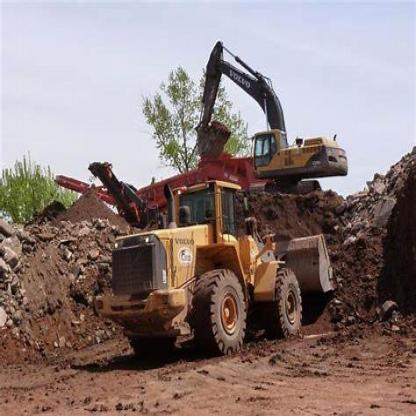bull_dozer/loader/grader: (90, 176, 350, 362)
excavator: (182, 35, 356, 207)
